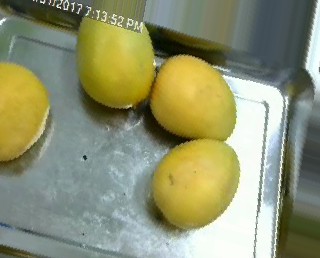Mango: (138, 133, 246, 229), (74, 5, 159, 116), (153, 49, 241, 145), (0, 56, 51, 168)
